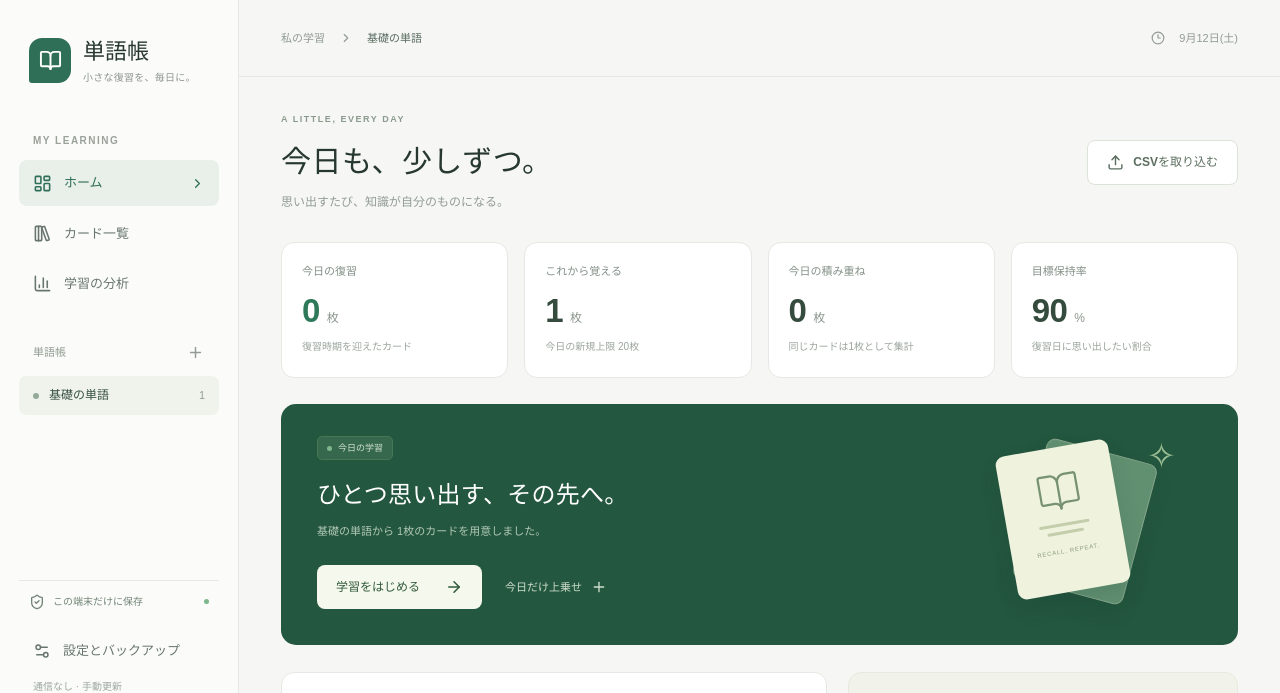
Scenario: CSV choices and consolidation › keeps question matching when reimporting a deck that explicitly does not use IDs
This screenshot has width=1280, height=693.
Click the button "CSVを取り込む" at [1163, 163], box 1087,140 -> 1238,185
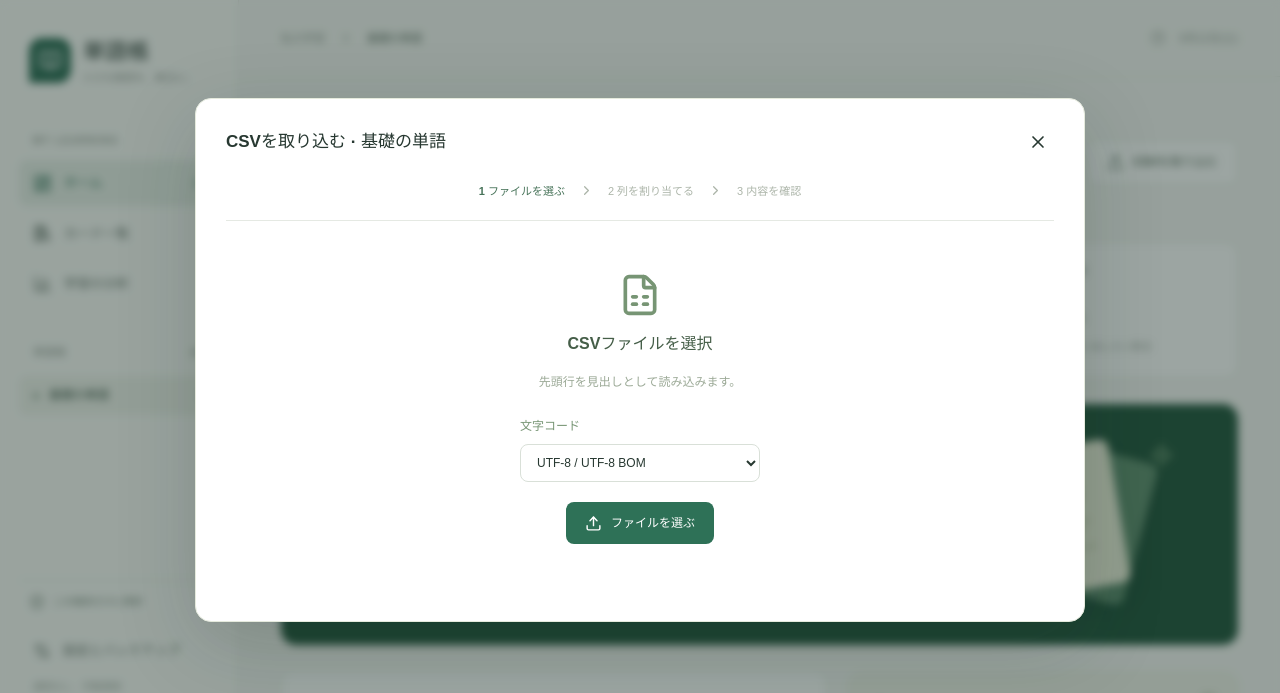
Click the button "ファイルを選ぶ" at [640, 523], box 566,502 -> 714,544
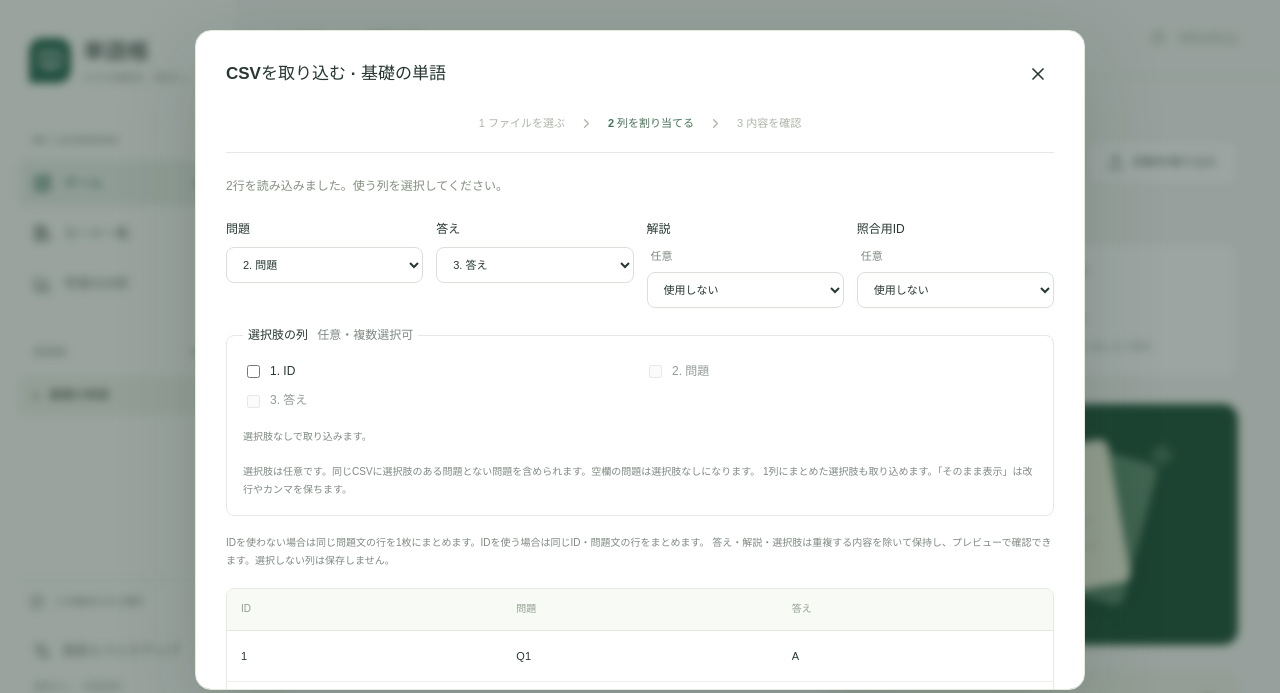
Result: the dropdown labelled "照合用ID 任意" shows "使用しない" at 857,272 -> 1054,308
